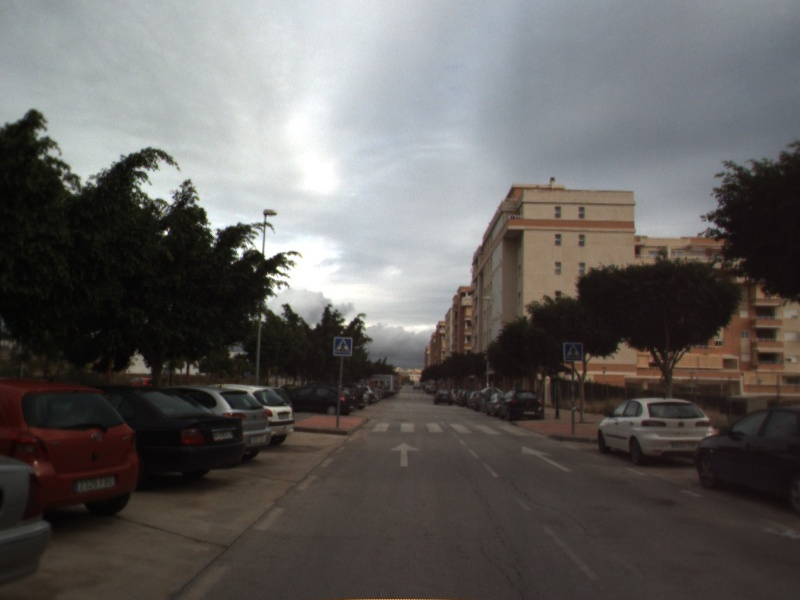STRAIGHT: (519, 444, 573, 473), (388, 441, 421, 468)
